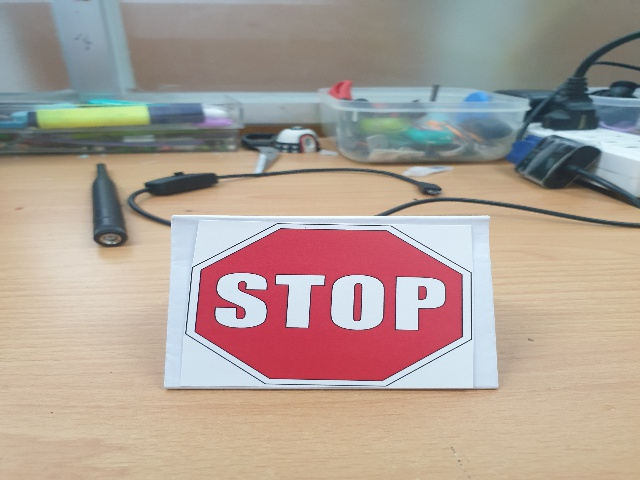Stop: (175, 221, 477, 388)
